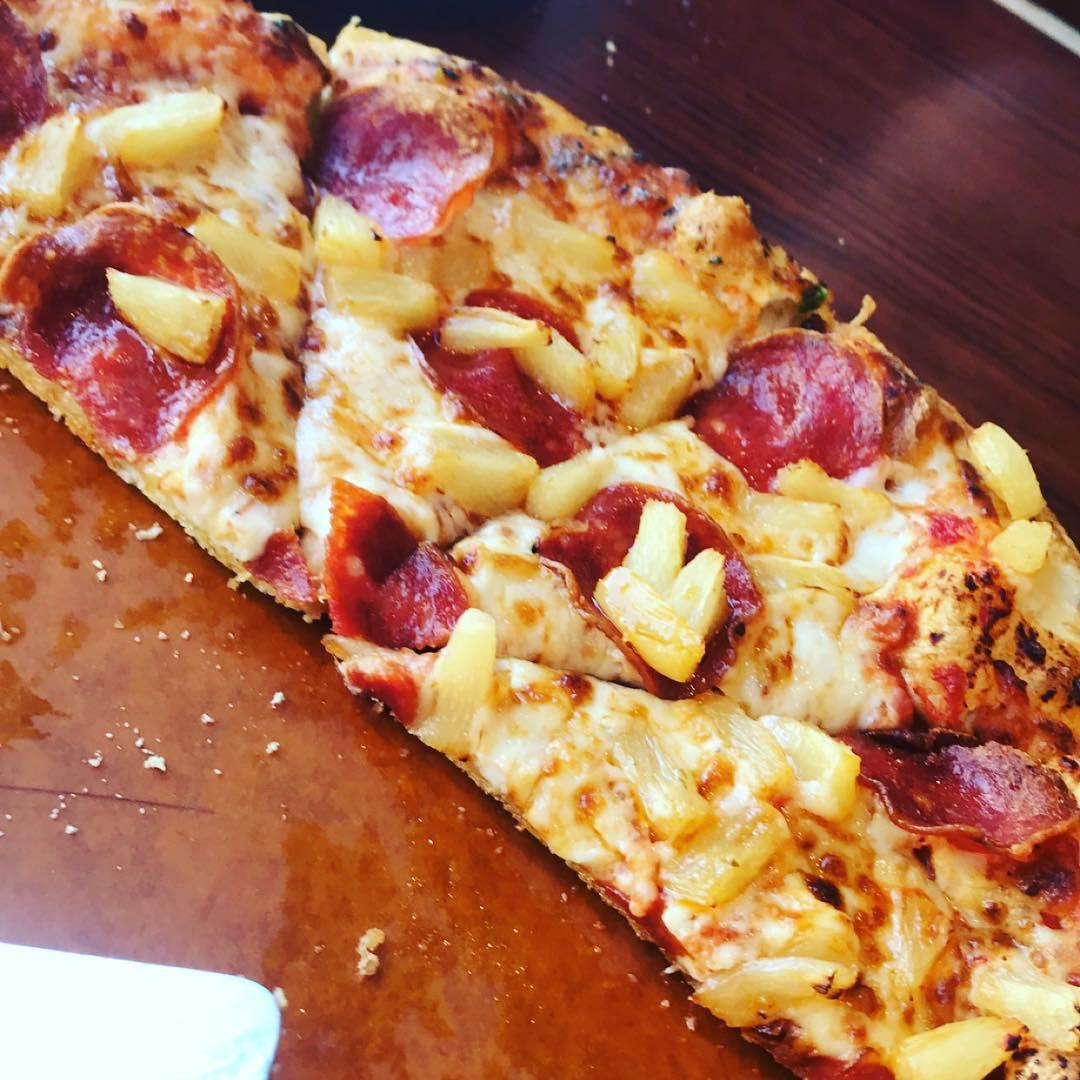Pepperoni: (0, 198, 255, 470), (535, 480, 768, 708), (824, 713, 1080, 859), (318, 79, 504, 254), (697, 333, 888, 479), (318, 483, 479, 645), (408, 330, 598, 463)
Pineapple: (318, 197, 446, 330), (102, 258, 230, 370), (660, 803, 790, 908), (596, 570, 707, 684), (689, 953, 854, 1029), (413, 606, 500, 749), (421, 426, 541, 511), (199, 210, 304, 307), (620, 729, 712, 835), (97, 91, 229, 164), (0, 112, 88, 219), (894, 1012, 1032, 1080), (711, 693, 797, 802), (505, 195, 614, 274), (965, 420, 1050, 517), (632, 252, 736, 331), (777, 459, 890, 526), (516, 333, 598, 412), (628, 497, 685, 598), (673, 546, 731, 641), (447, 306, 555, 357), (990, 521, 1052, 571)
Pizza: (318, 332, 1080, 1080), (318, 27, 827, 648), (0, 0, 317, 612)
